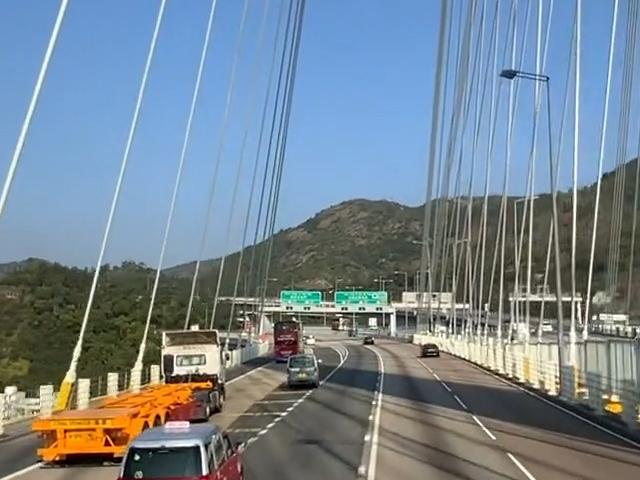car: (22, 337, 248, 463), (108, 413, 250, 480), (35, 424, 127, 467), (278, 348, 335, 395), (364, 323, 411, 341), (417, 335, 441, 358), (528, 327, 562, 342), (220, 334, 244, 350), (302, 331, 320, 346), (350, 325, 369, 339), (367, 325, 387, 337), (539, 322, 556, 335), (362, 334, 377, 347)
truck: (159, 329, 231, 389), (273, 317, 301, 359)
